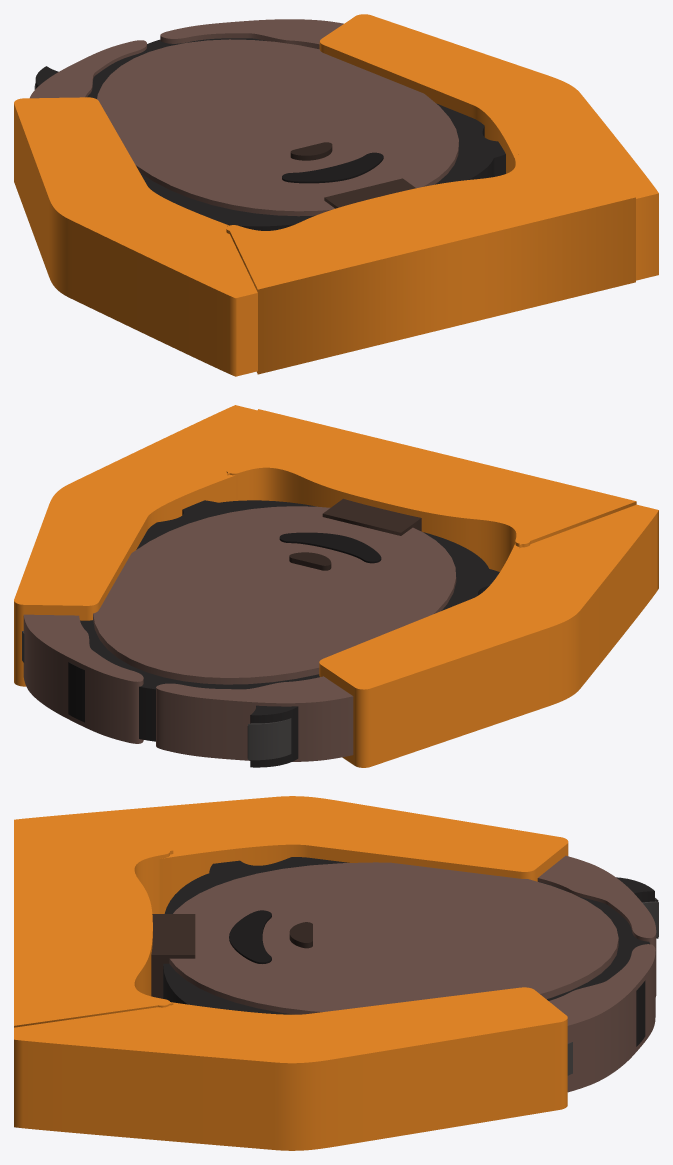
Rendered from emoji_u1f646_1f3ff.glb.
The picture shows the model from 3 angles, top to bottom: view 1: azimuth 30°, elevation 25°; view 2: azimuth 150°, elevation 25°; view 3: azimuth 270°, elevation 25°; orthographic projection. The views are drawn at different scales.
Parts seen in each view (by area): view 1: emoji_u1f646_1f3ff; view 2: emoji_u1f646_1f3ff; view 3: emoji_u1f646_1f3ff.
Boxes of the visible parts, x1,y1,x2,y2 form: emoji_u1f646_1f3ff: (14,14,658,376); emoji_u1f646_1f3ff: (14,405,658,767); emoji_u1f646_1f3ff: (14,796,658,1150).
Bounding box in the file's own units: 0.0329 × 0.0052 × 0.0333.
